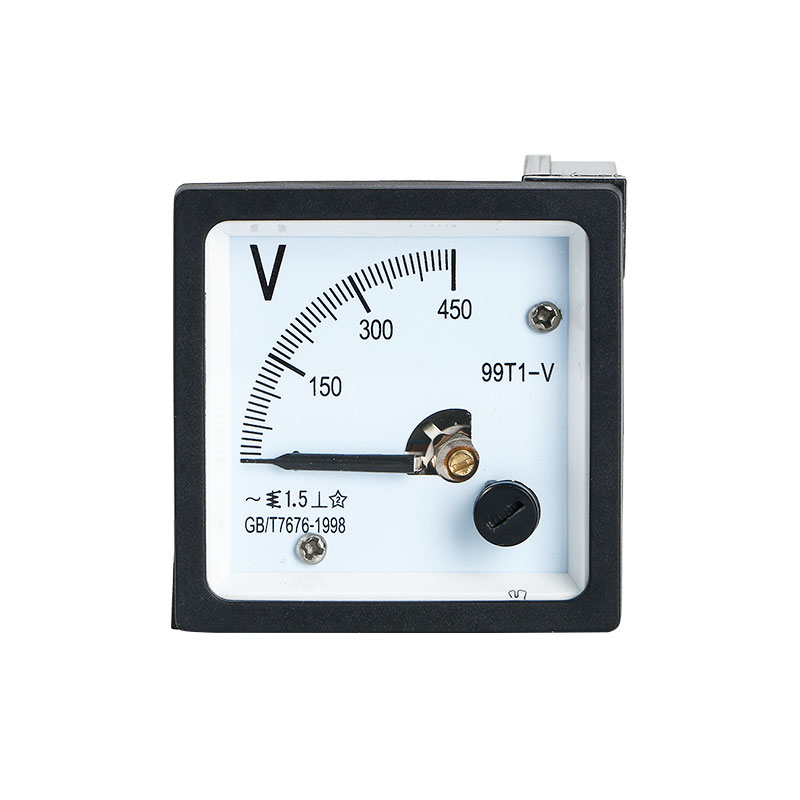pointer: (203, 213, 585, 602)
